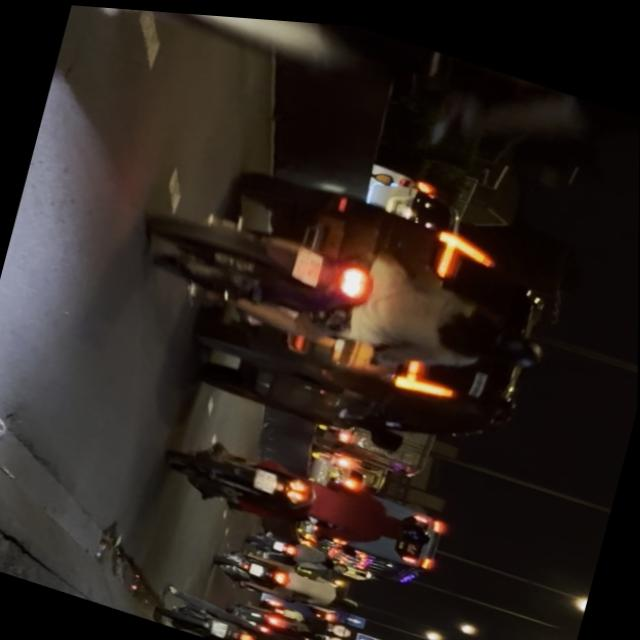helmet: (470, 310, 548, 371)
licenseplate: (66, 4, 640, 201), (130, 177, 562, 406), (161, 420, 458, 573)
nohelmet: (291, 240, 326, 282), (252, 463, 279, 489)
